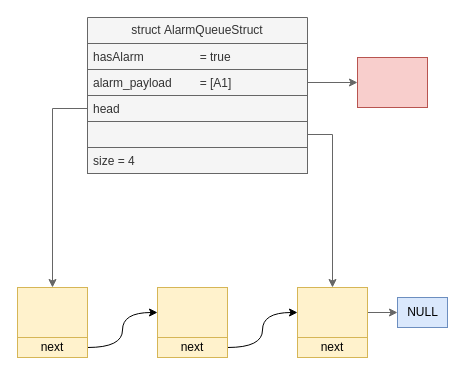
The diagram is 465 pixels wide and 375 high, and some of its shapes have lost their labels. The centre of each missing label's shape, as x and y in pixels:
A1 alarm = 1: point (392, 82)
N1 msg = 10: point (52, 312)
N2 msg = 10: point (192, 312)
N3 msg = 10: point (332, 312)
tail: point (197, 134)
